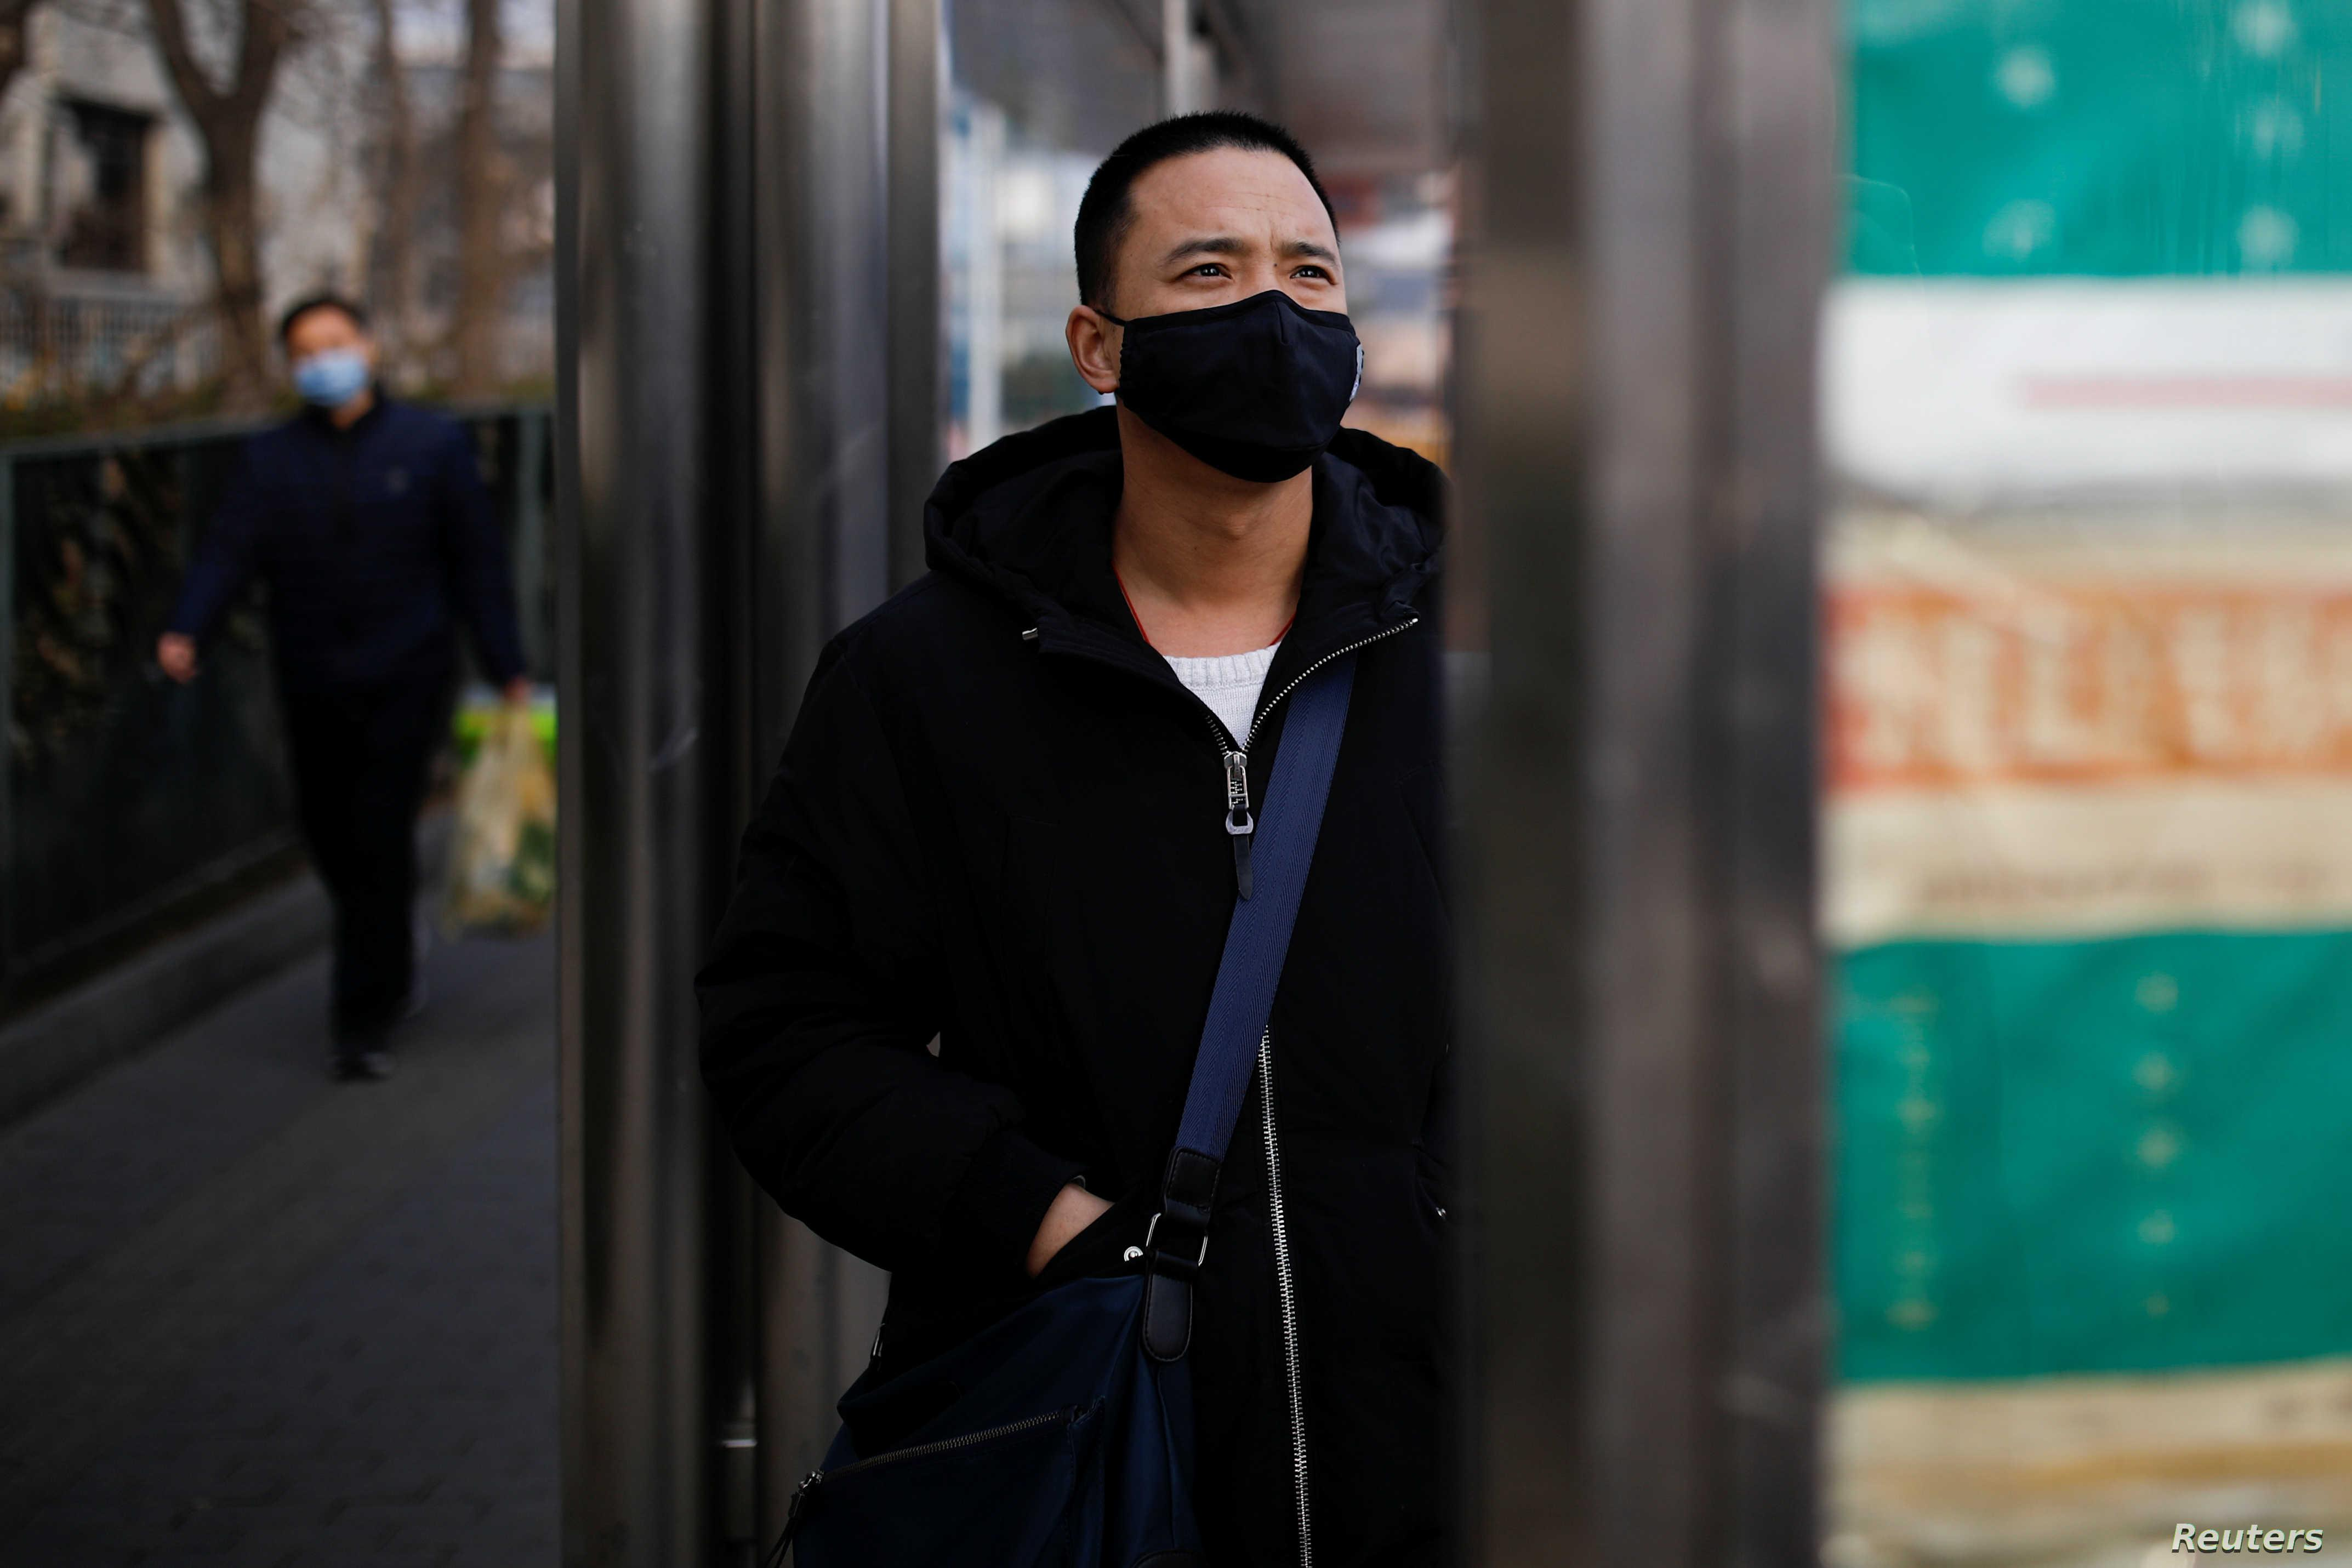mask: (1118, 213, 1361, 485), (292, 324, 371, 411)
